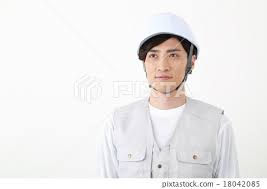Person_wearing_helmet: (132, 12, 195, 67)
